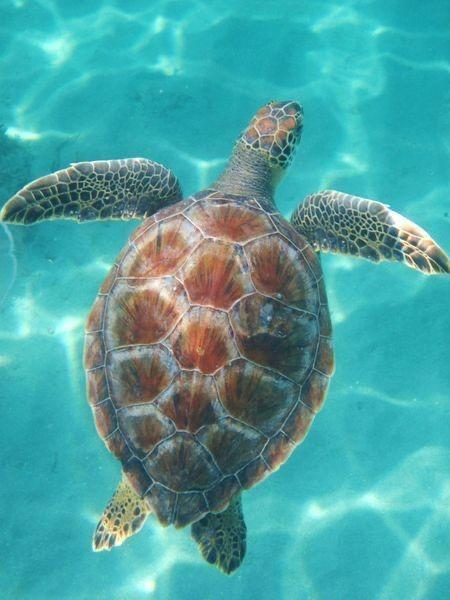non-dog: (0, 100, 450, 575)
